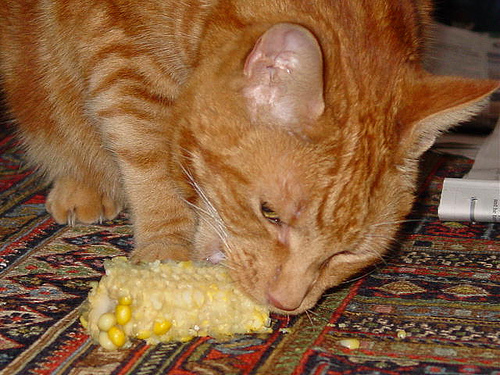corn: (79, 254, 274, 351)
